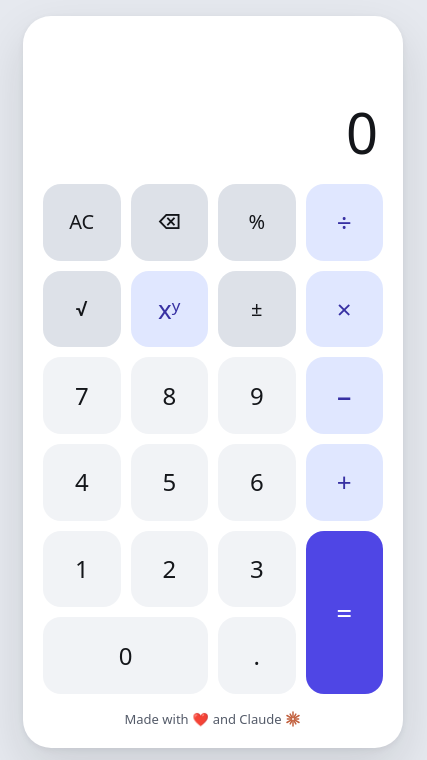
it: Calculator › switches the clear key between C and AC
Click the button "5" at (169,482), box [130,444,208,521]
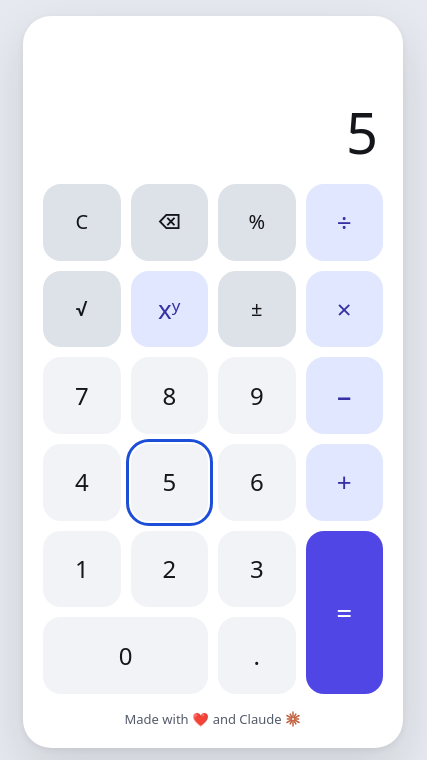
Click the button named "clear" at (82,222), box [43,184,120,261]
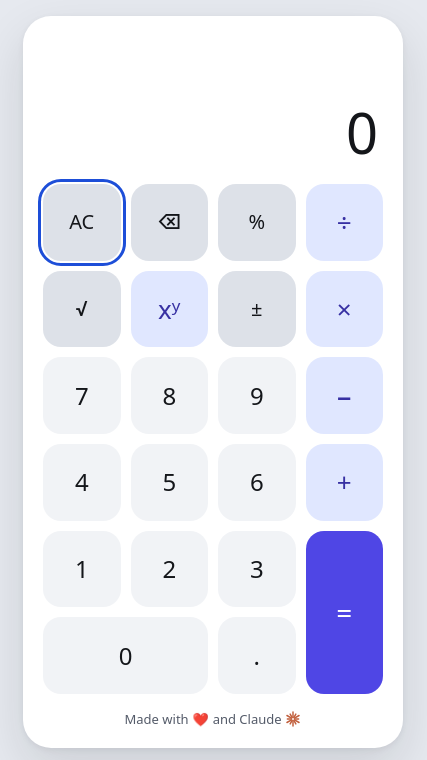
Check: the text "0" is shown, box [346,102,377,164]
Check: the button with aria-label "all clear" is shown, box [43,184,120,261]
